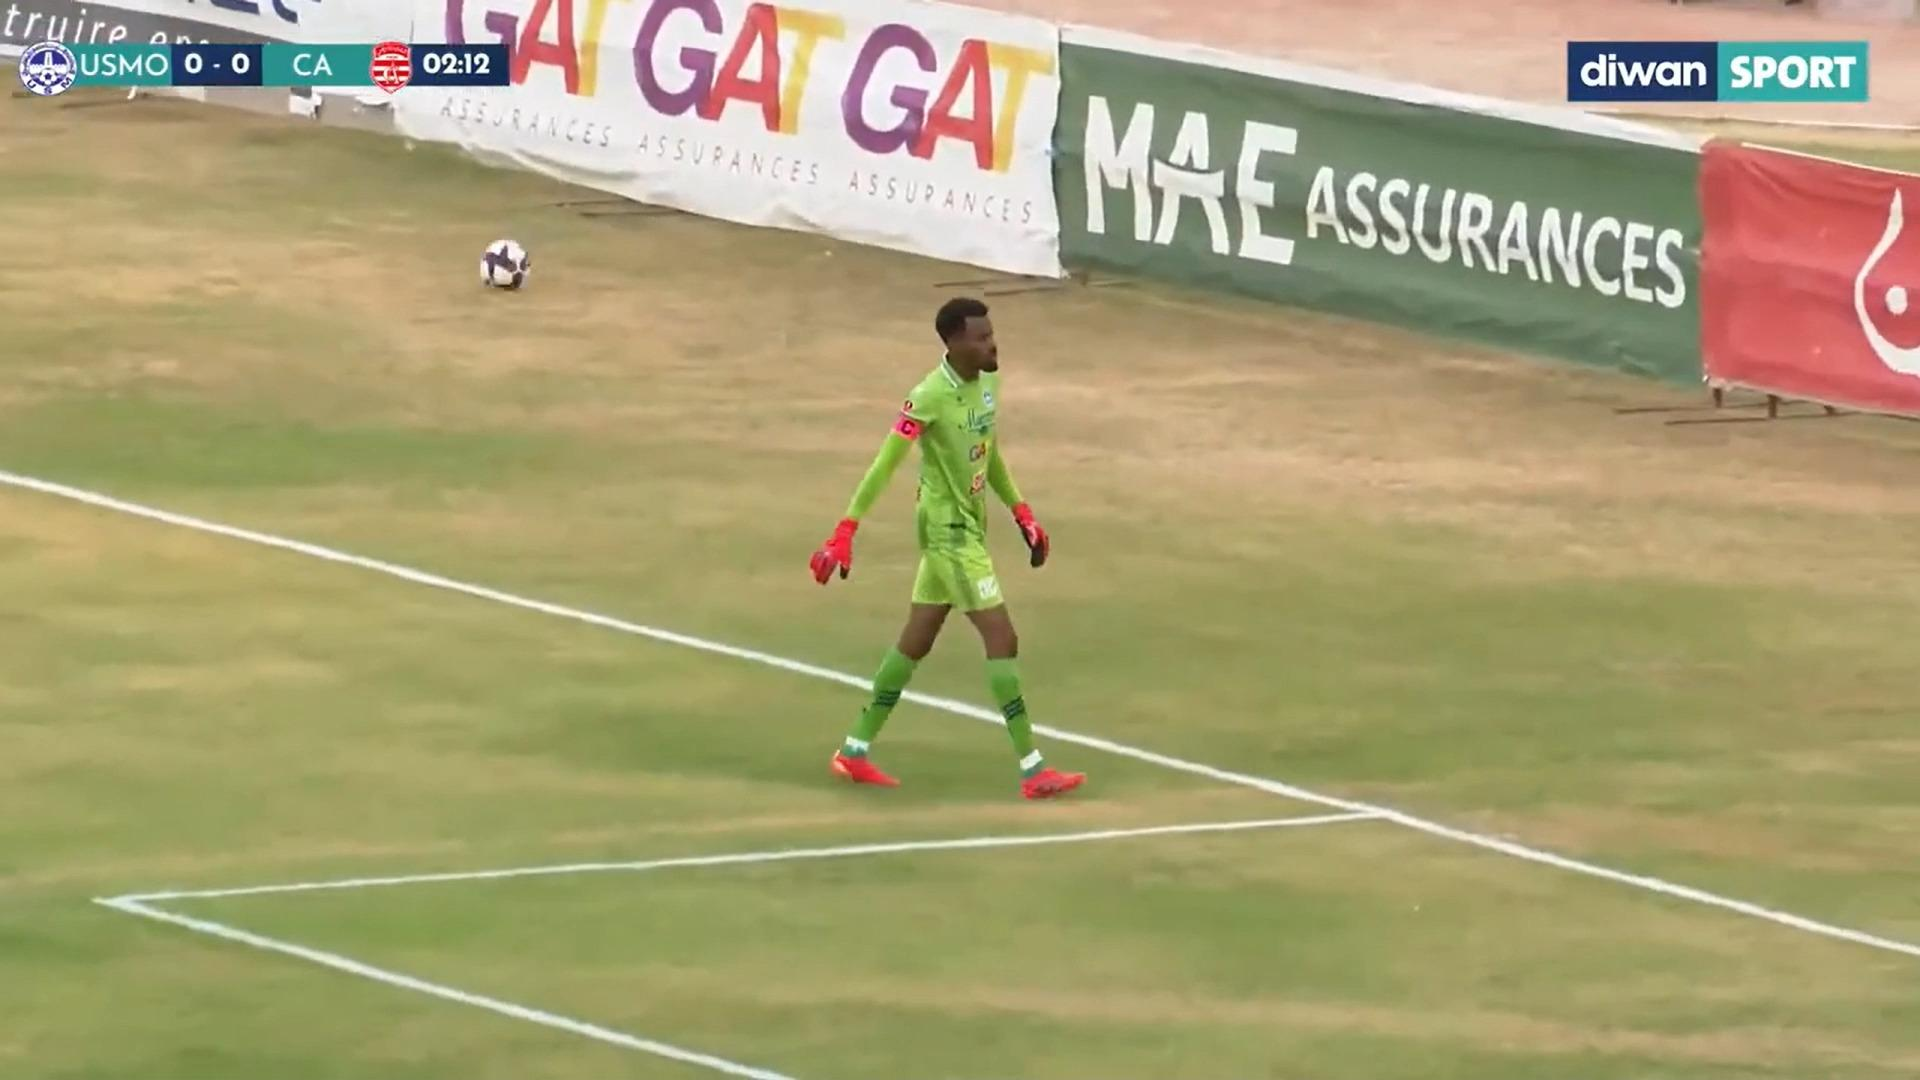ball: (465, 223, 541, 298)
goalkeeper: (803, 265, 1102, 831)
